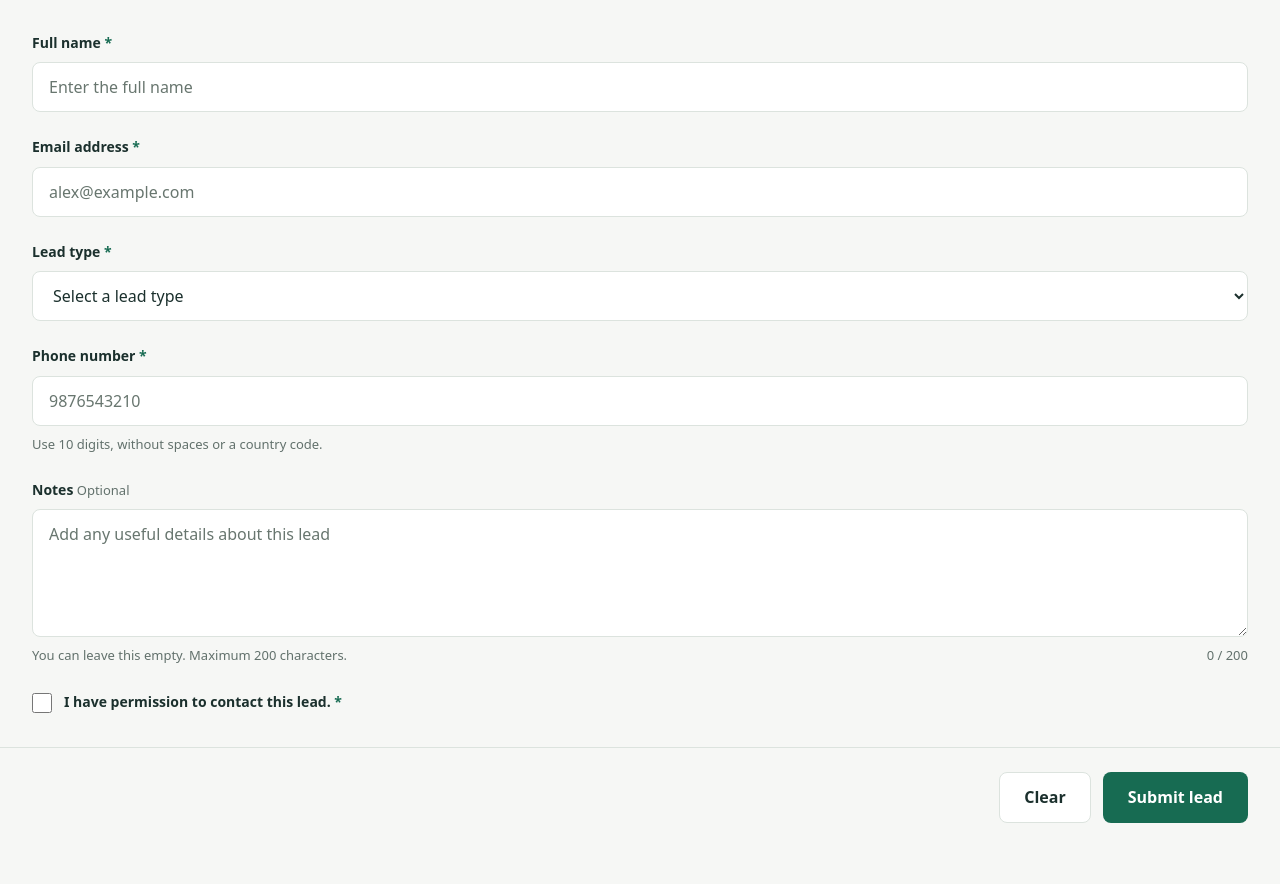
Scenario: form interactions › reveals company validation, then removes its error as soon as the field is hidden
Check: the field labelled "company name" is not shown
Select "Company" in the dropdown labelled "Lead type *" at [640, 296], box [32,271,1248,321]
(page scrolled)
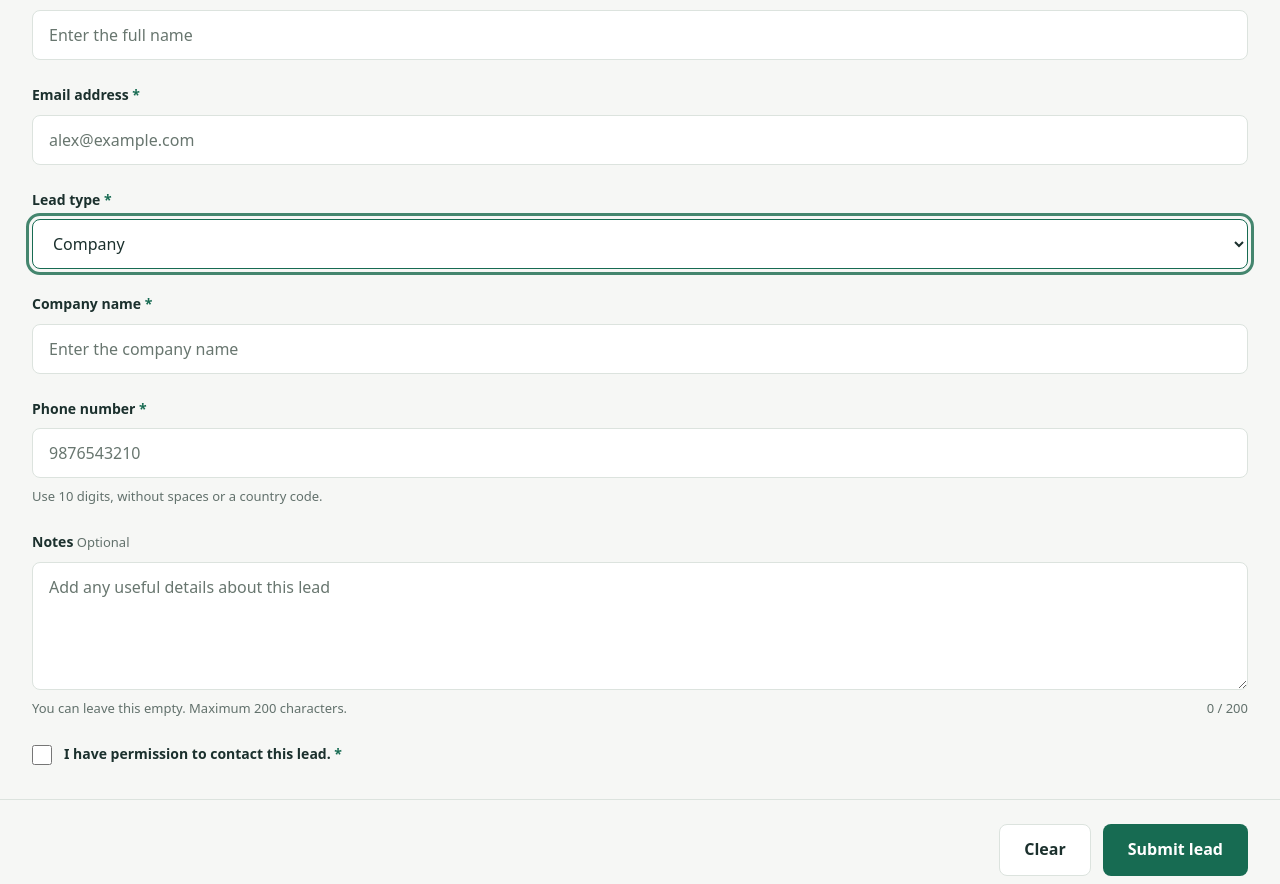
Click the button "Submit lead" at [1175, 850], box [1103,824,1248,876]
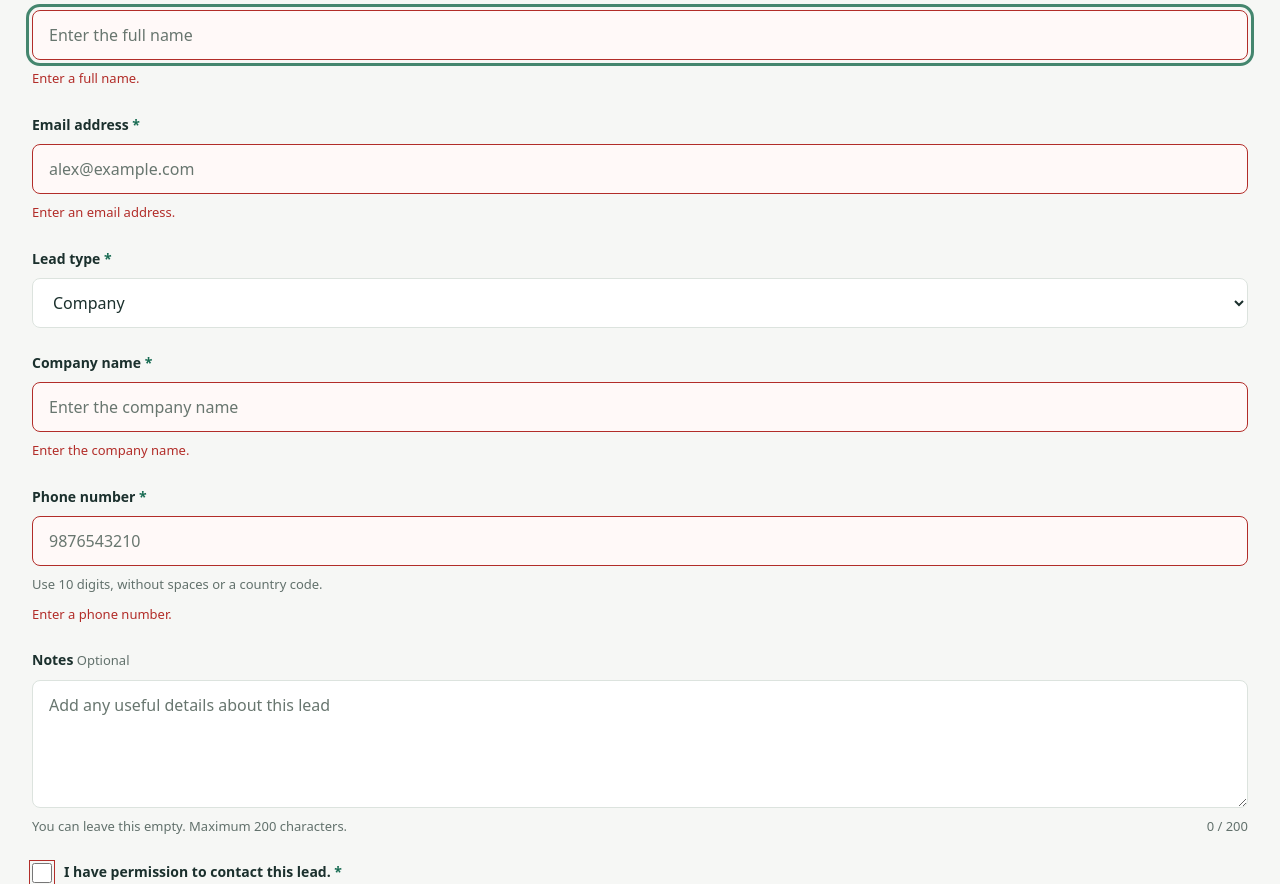
Check: the text "Enter the company name." is shown, box [32,441,189,459]
Select "Individual" in the dropdown labelled "Lead type *" at [640, 303], box [32,278,1248,328]
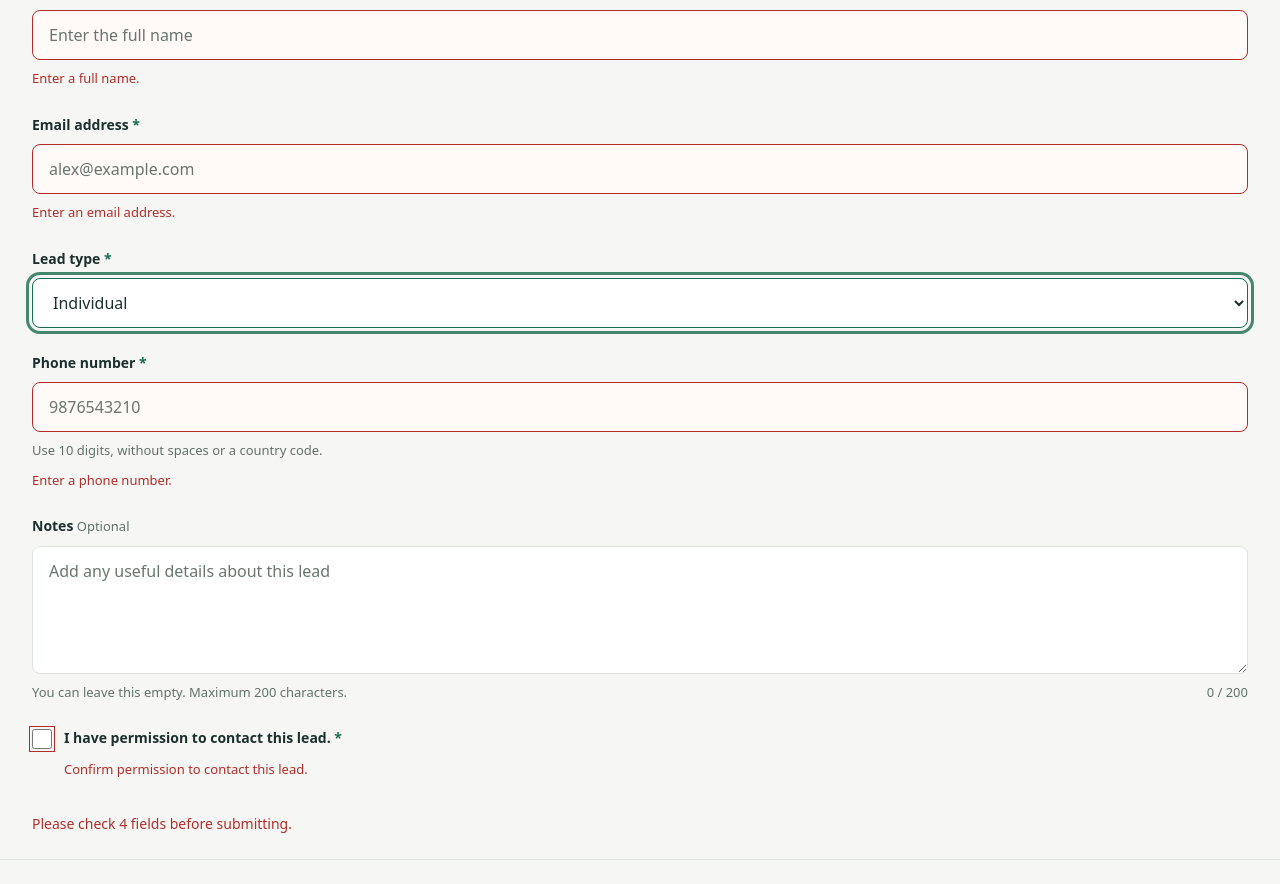
Check: the text "Enter the company name." is gone
Check: the label "Company name" is gone
